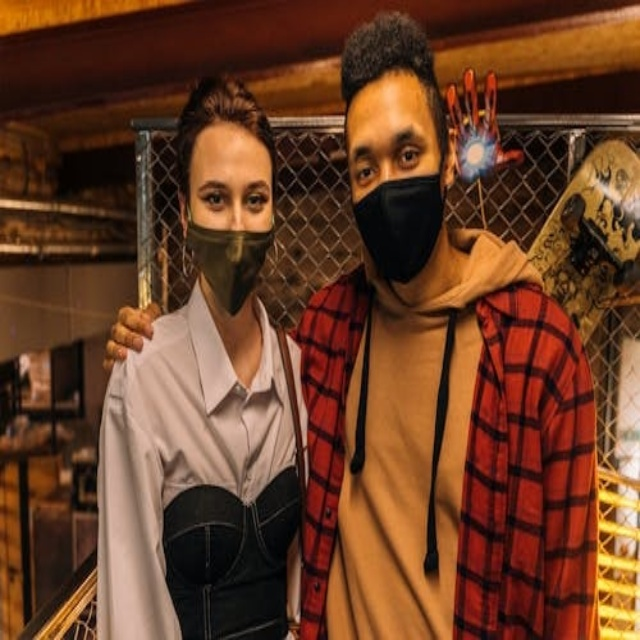Mascara: (352, 171, 445, 283), (185, 215, 276, 317)
Sin_gafas: (398, 146, 421, 166), (356, 164, 376, 183), (203, 190, 225, 207), (245, 192, 267, 208)
Sin_guantes: (104, 300, 159, 366)
